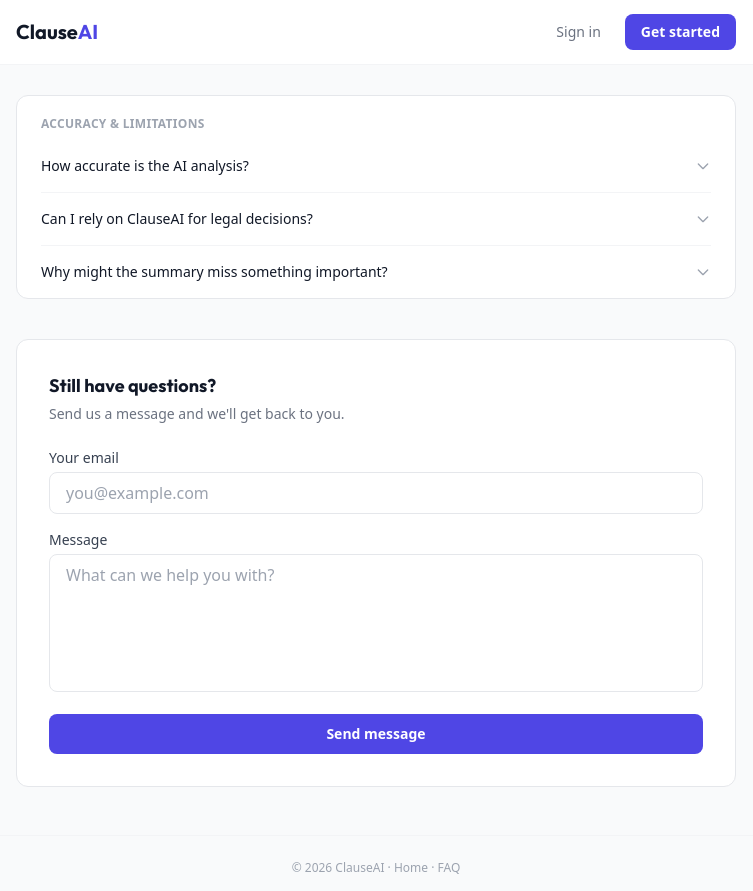
shows confirmation after contact form submit
(page scrolled)
Type "test@example.com" into the field labelled "Your email".
click(376, 493); type("test@example.com")  # box left=49, top=472, right=703, bottom=514
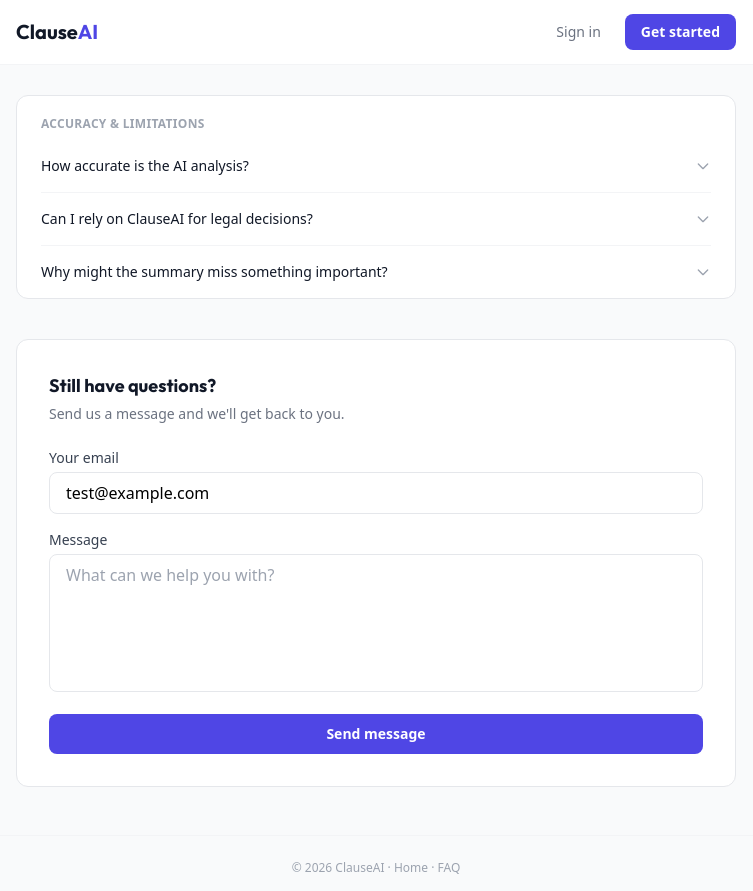
Type "Hello there" into the text box labelled "Message".
click(376, 623); type("Hello there")  # box left=49, top=554, right=703, bottom=692
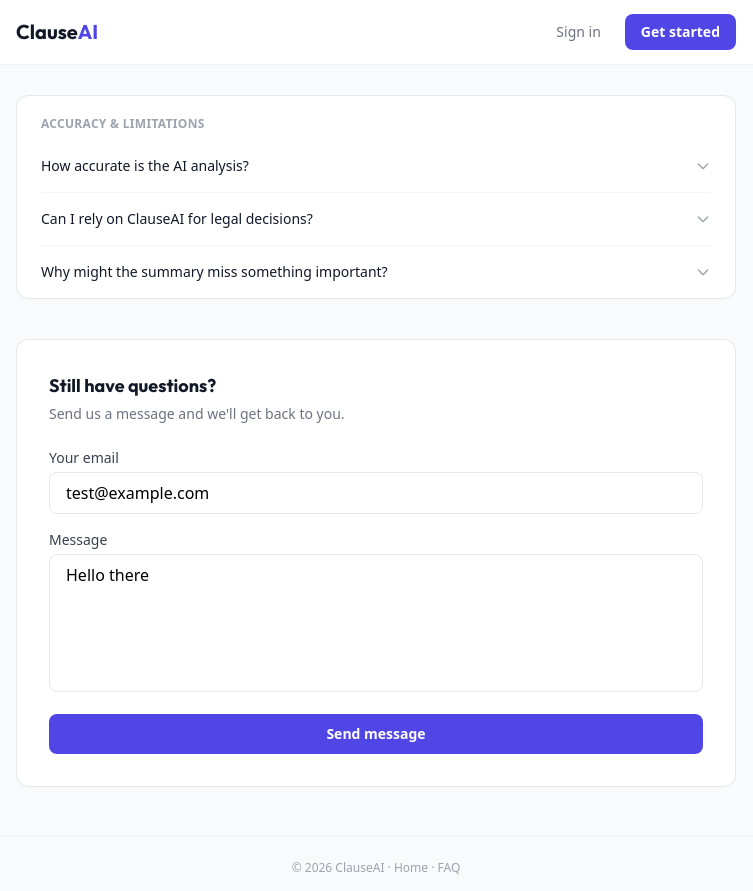
Submit the form "Your email Message Send message", box left=49, top=448, right=703, bottom=754
(page scrolled)
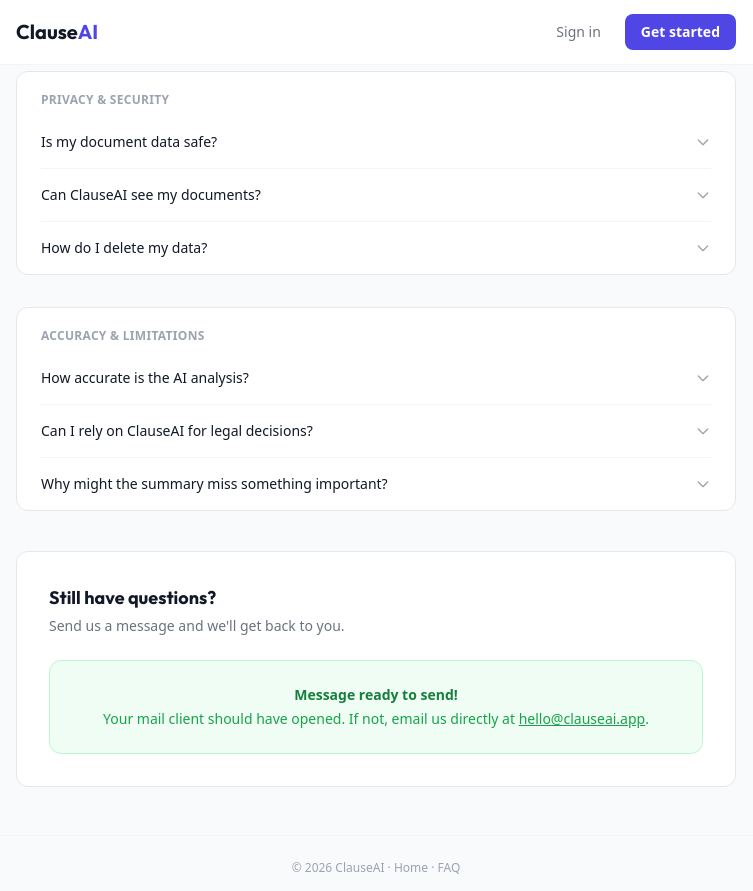
Result: the message is shown at left=49, top=660, right=703, bottom=754
Result: the text "Message ready to send!" is shown at left=294, top=685, right=458, bottom=704
